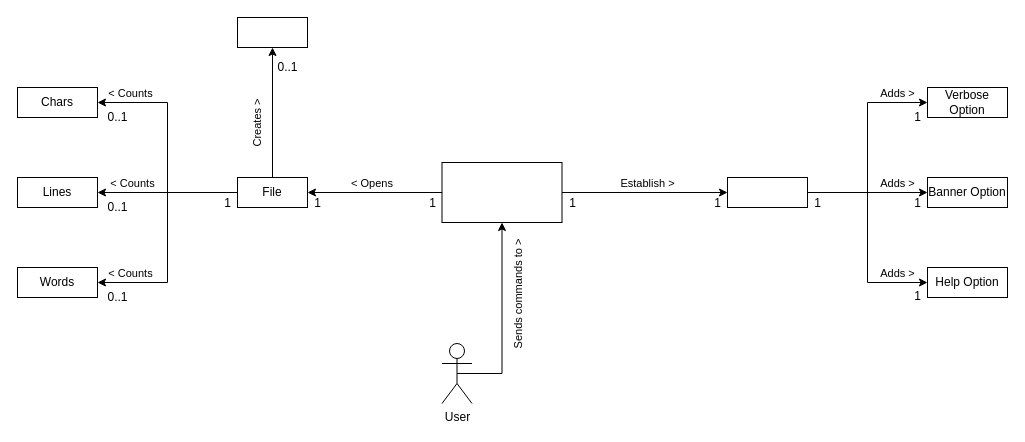
This 1025x442 diagram has some shape labels left out. Here are the shapes that lost their labels. From the top down, the centre of each, then its label:
At point 272,32: "Copy".
At point 501,192: "Administrator".
At point 767,192: "Option Table".
